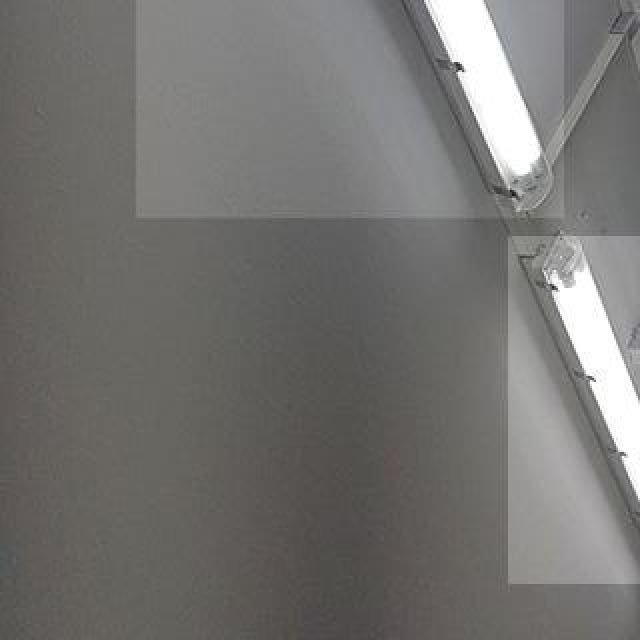fluorescent tube: (136, 0, 572, 204), (530, 240, 640, 578), (630, 0, 640, 84)
